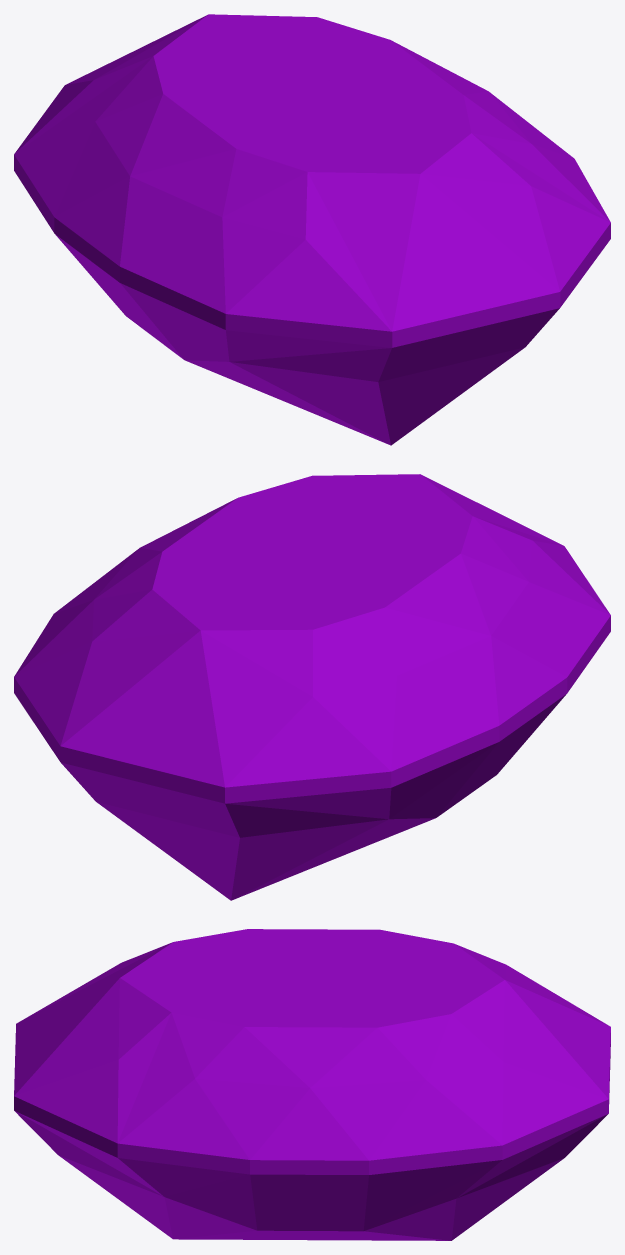
Rendered from february.fbx.
3 renders of one model, top to bottom at view 1: azimuth 30°, elevation 25°; view 2: azimuth 150°, elevation 25°; view 3: azimuth 270°, elevation 25°, orthographic. The views are drawn at different scales.
Parts seen in each view (by area): view 1: amethyst; view 2: amethyst; view 3: amethyst.
Boxes of the visible parts, x1=… form: amethyst: x1=14, y1=14, x2=610, y2=445; amethyst: x1=14, y1=474, x2=610, y2=900; amethyst: x1=14, y1=929, x2=610, y2=1240.
Bounding box in the file's own units: 894 × 554 × 1147.
Materials: 1 (1 with a texture image).
